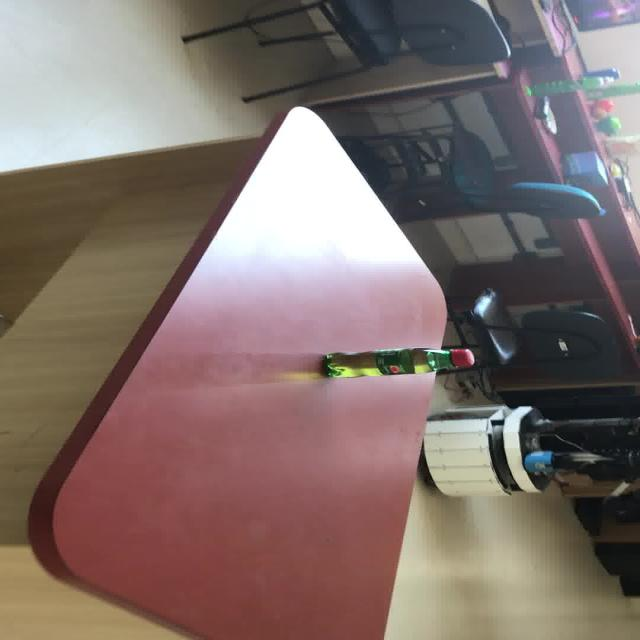guarana: (26, 105, 460, 638), (319, 346, 475, 378)
